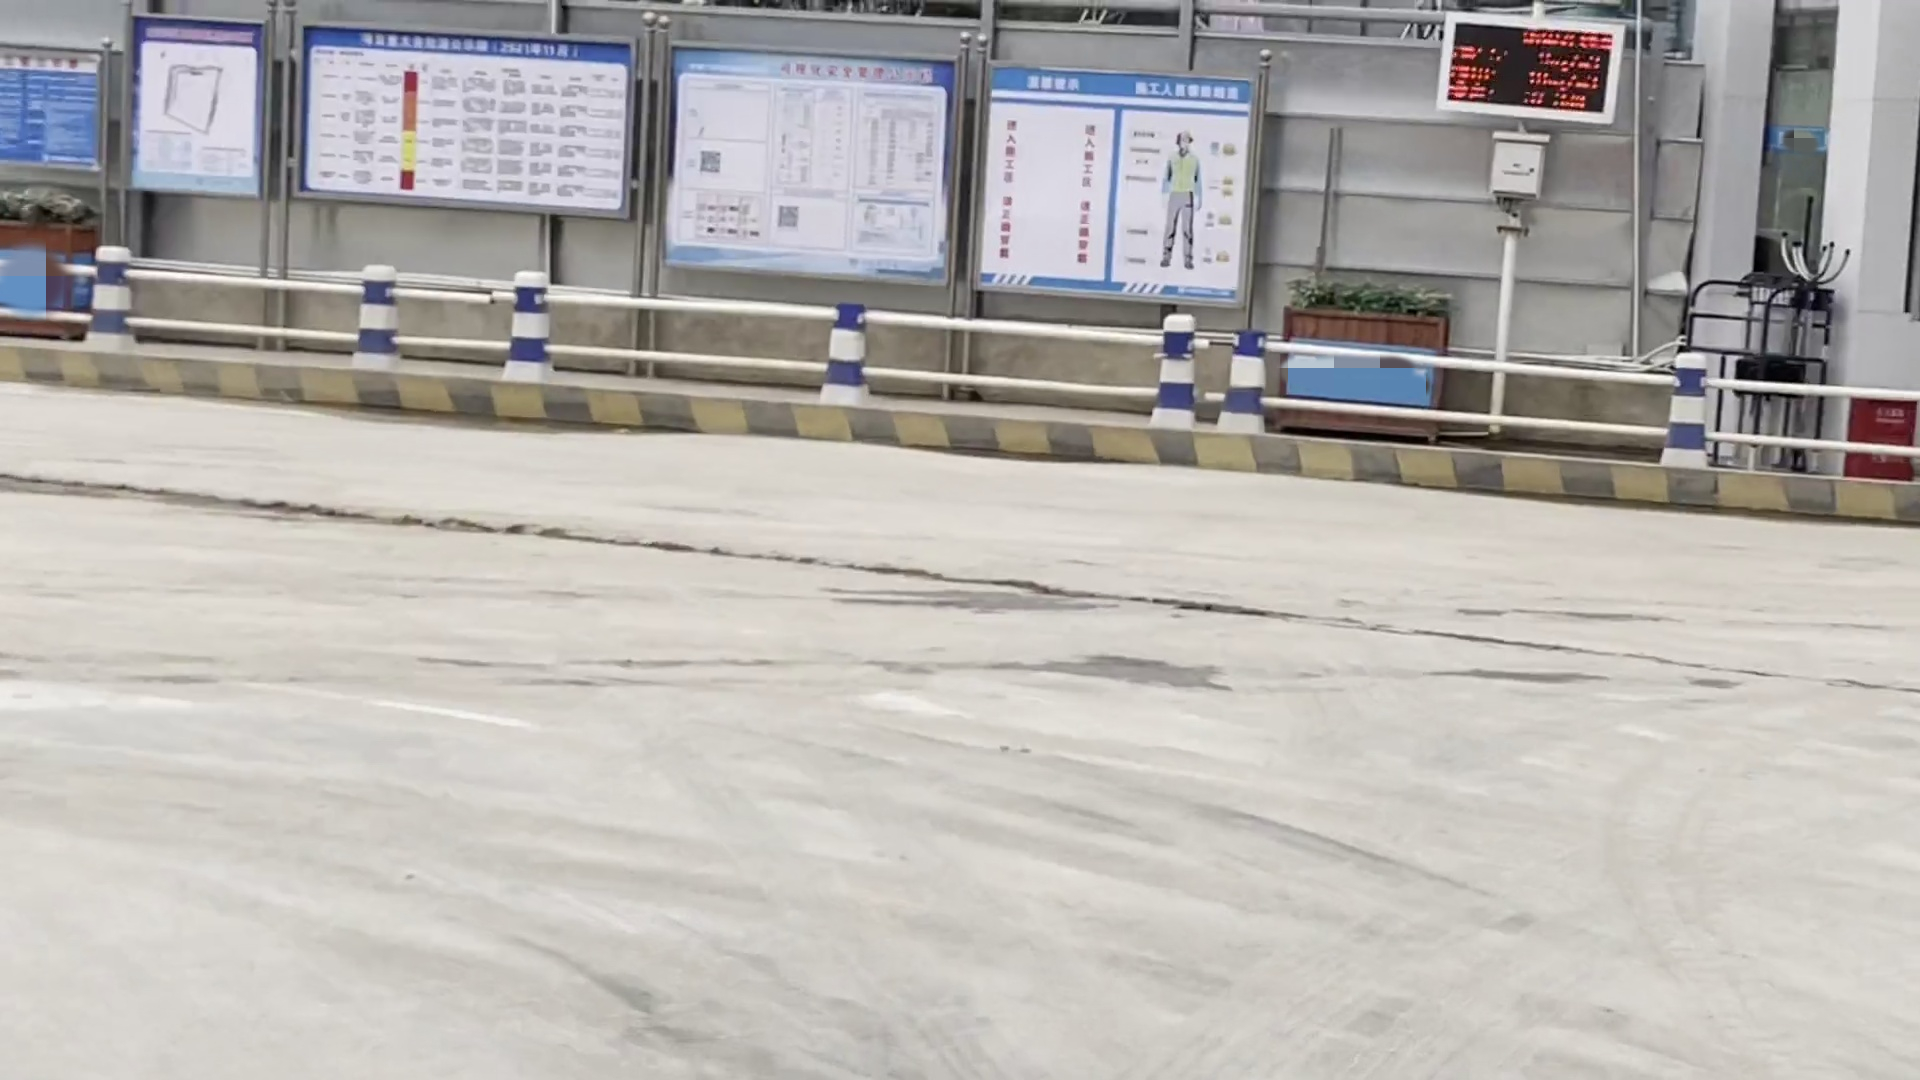slogan: (657, 47, 949, 286), (981, 59, 1247, 303), (301, 36, 626, 218), (127, 18, 255, 196), (3, 50, 102, 185)
